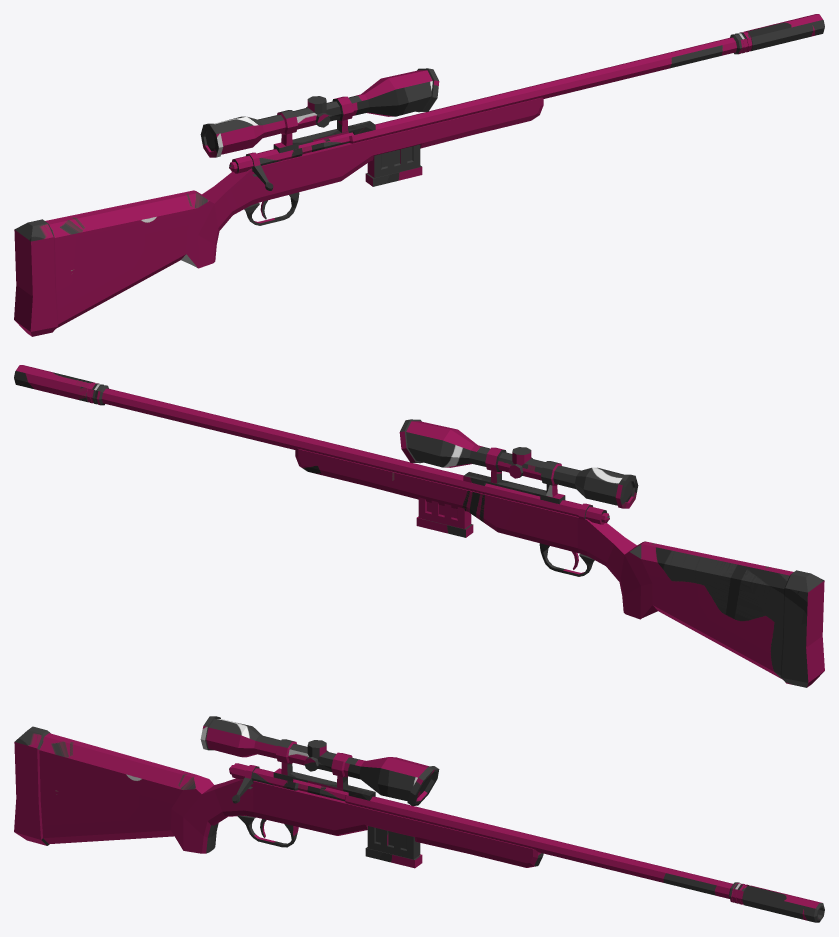
File: Sniper.fbx
3 views of the same model, one above another, from view 1: azimuth 30°, elevation 25°; view 2: azimuth 150°, elevation 25°; view 3: azimuth 330°, elevation 25° (orthographic).
Visible parts, largest first — view 1: SniperRifle; view 2: SniperRifle; view 3: SniperRifle.
Part boxes in pixels (left/top/right/bottom): SniperRifle: left=14, top=14, right=824, bottom=336; SniperRifle: left=14, top=365, right=824, bottom=687; SniperRifle: left=14, top=716, right=824, bottom=922.
Size of the model in its own units: 741 by 151 by 48.46.
